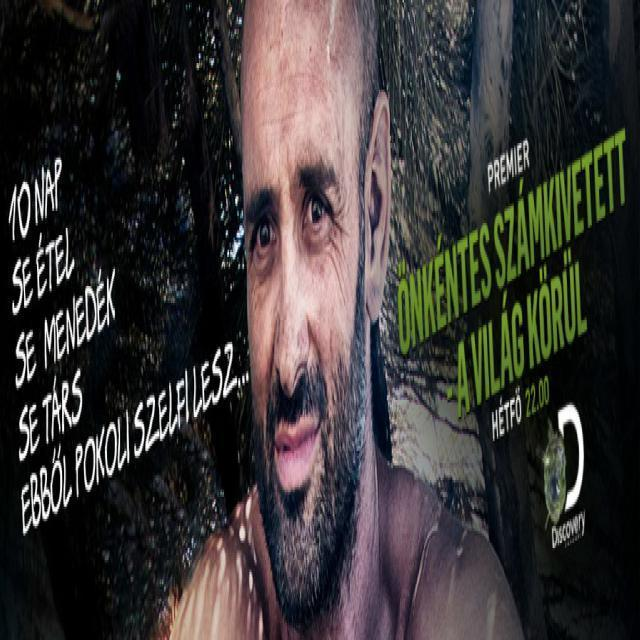closed-mouth: (274, 417, 322, 494)
